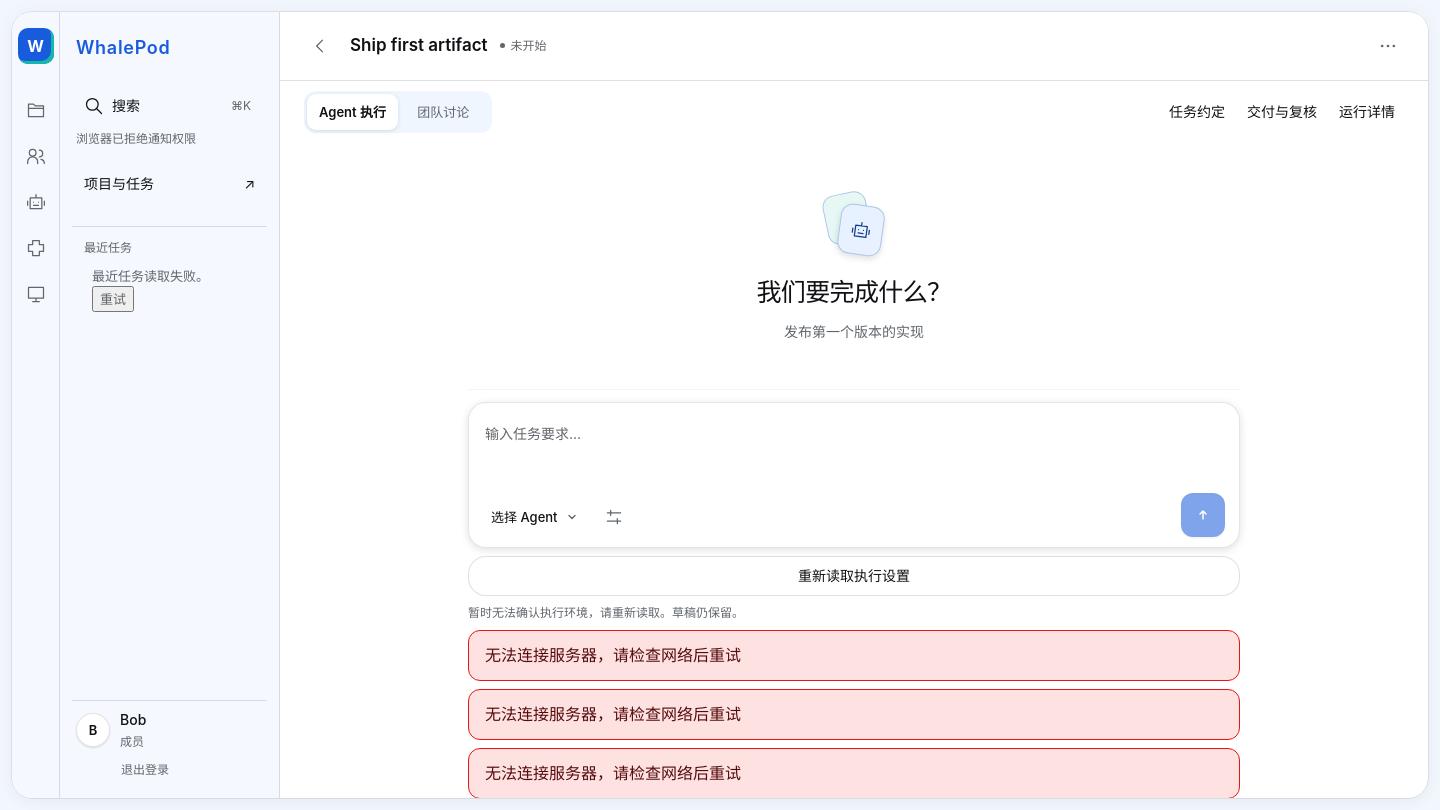
工作区 Micro 精修 › 底部选择菜单通过 portal 展开，Escape 收起并返回原控件
Click the button "选择 Agent" at (534, 517), box 483,497 -> 586,537
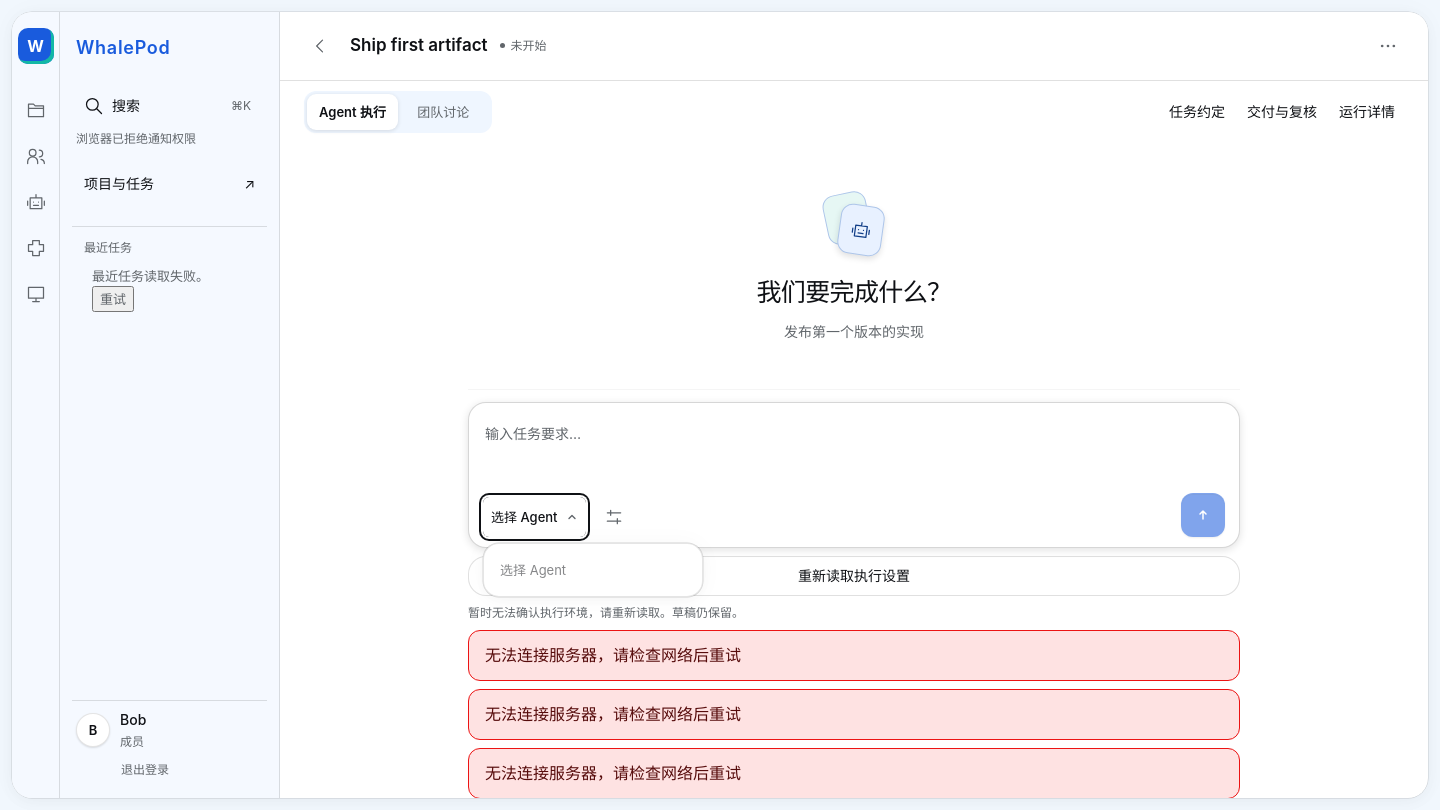
Press Escape
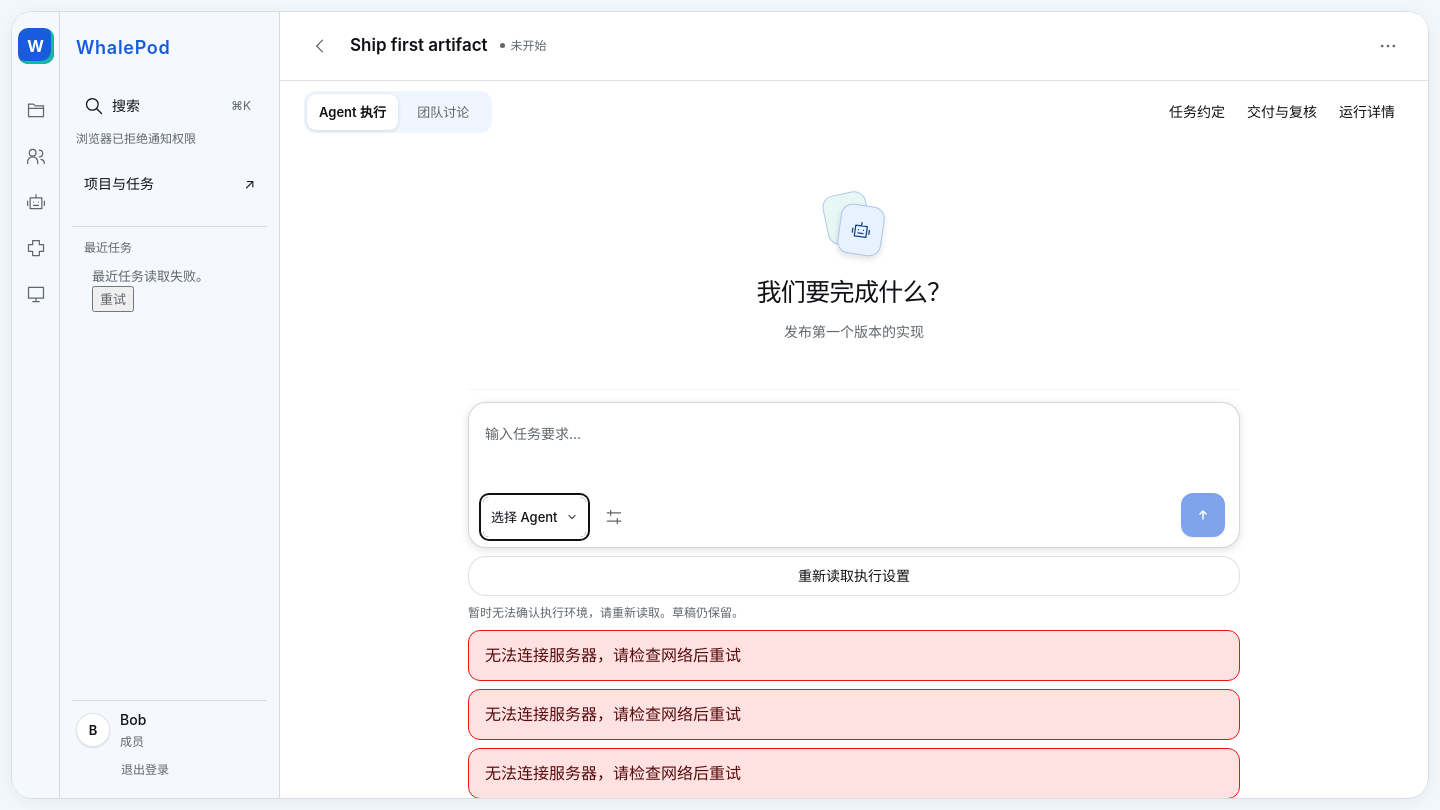
Check: the menu is gone
